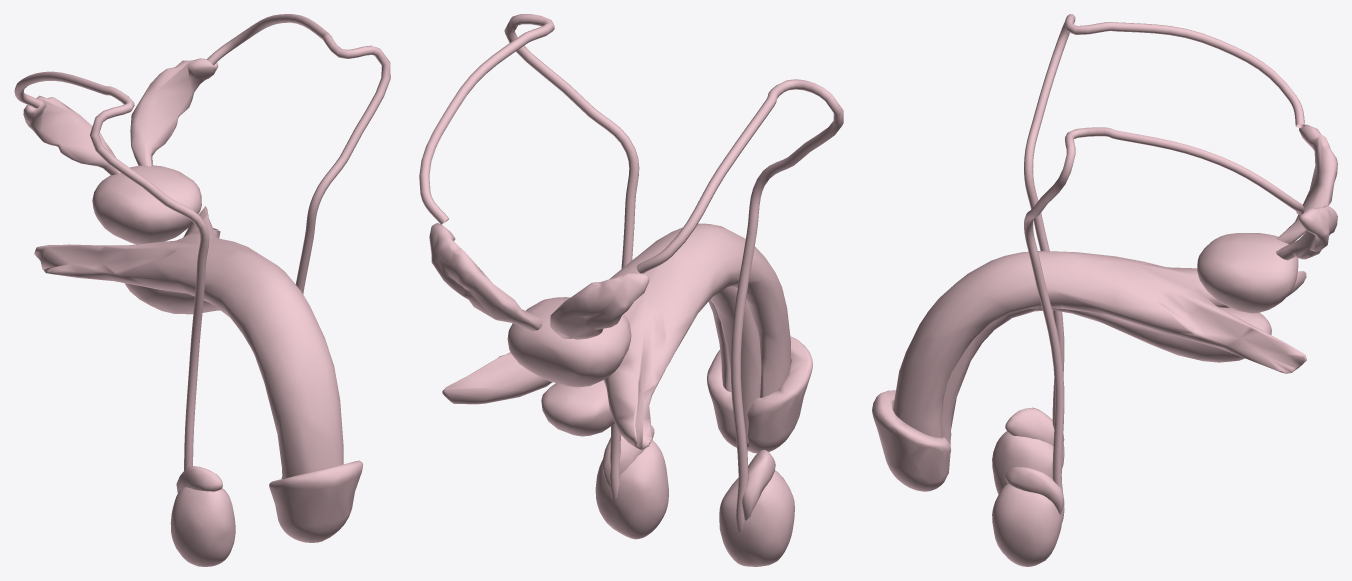
File: genital.glb
The picture shows the model from 3 angles, left to right: view 1: azimuth 30°, elevation 25°; view 2: azimuth 150°, elevation 25°; view 3: azimuth 270°, elevation 25°; orthographic projection. The views are drawn at different scales.
Parts seen in each view (by area): view 1: GEN.corpus_cavernosum_of_penis.C, GEN.prostate.C, GEN.ductus_deferens.R, GEN.glans_penis.C, GEN.seminal_gland.L, GEN.ductus_deferens.L, GEN.testis.R, GEN.seminal_gland.R, GEN.corpus_spongiosum_of_penis.C, GEN.epididymis.R; view 2: GEN.corpus_cavernosum_of_penis.C, GEN.ductus_deferens.R, GEN.ductus_deferens.L, GEN.prostate.C, GEN.corpus_spongiosum_of_penis.C, GEN.glans_penis.C, GEN.testis.R, GEN.testis.L, GEN.seminal_gland.L, GEN.seminal_gland.R, GEN.epididymis.R, GEN.epididymis.L; view 3: GEN.corpus_cavernosum_of_penis.C, GEN.prostate.C, GEN.ductus_deferens.L, GEN.ductus_deferens.R, GEN.corpus_spongiosum_of_penis.C, GEN.glans_penis.C, GEN.testis.L, GEN.seminal_gland.R, GEN.testis.R, GEN.seminal_gland.L, GEN.epididymis.L, GEN.epididymis.R.
Part boxes in pixels (x1,y1,x2,y2): GEN.corpus_cavernosum_of_penis.C: (34, 206, 343, 479); GEN.prostate.C: (92, 165, 201, 244); GEN.ductus_deferens.R: (14, 71, 209, 470); GEN.glans_penis.C: (269, 460, 363, 542); GEN.seminal_gland.L: (130, 58, 218, 166); GEN.ductus_deferens.L: (207, 14, 390, 294); GEN.testis.R: (170, 487, 235, 566); GEN.seminal_gland.R: (23, 95, 120, 175); GEN.corpus_spongiosum_of_penis.C: (124, 283, 220, 314); GEN.epididymis.R: (176, 466, 222, 492); GEN.corpus_cavernosum_of_penis.C: (442, 223, 790, 449); GEN.ductus_deferens.R: (636, 79, 843, 532); GEN.ductus_deferens.L: (419, 14, 639, 502); GEN.prostate.C: (507, 297, 631, 387); GEN.corpus_spongiosum_of_penis.C: (541, 287, 761, 447); GEN.glans_penis.C: (707, 336, 812, 453); GEN.testis.R: (719, 470, 794, 566); GEN.testis.L: (595, 440, 668, 539); GEN.seminal_gland.L: (429, 223, 542, 331); GEN.seminal_gland.R: (550, 272, 649, 339); GEN.epididymis.R: (742, 449, 775, 520); GEN.epididymis.L: (602, 425, 654, 486); GEN.corpus_cavernosum_of_penis.C: (893, 251, 1306, 438); GEN.prostate.C: (1197, 233, 1298, 313); GEN.ductus_deferens.L: (1024, 127, 1304, 522); GEN.ductus_deferens.R: (1024, 14, 1304, 467); GEN.corpus_spongiosum_of_penis.C: (941, 307, 1271, 473); GEN.glans_penis.C: (872, 390, 951, 491); GEN.testis.L: (992, 483, 1061, 566); GEN.seminal_gland.R: (1278, 124, 1337, 244); GEN.testis.R: (992, 431, 1062, 494); GEN.seminal_gland.L: (1276, 205, 1337, 260); GEN.epididymis.L: (1005, 467, 1064, 514); GEN.epididymis.R: (1005, 407, 1064, 445).
Bounding box in the file's own units: 0.1122 × 0.1654 × 0.151.
